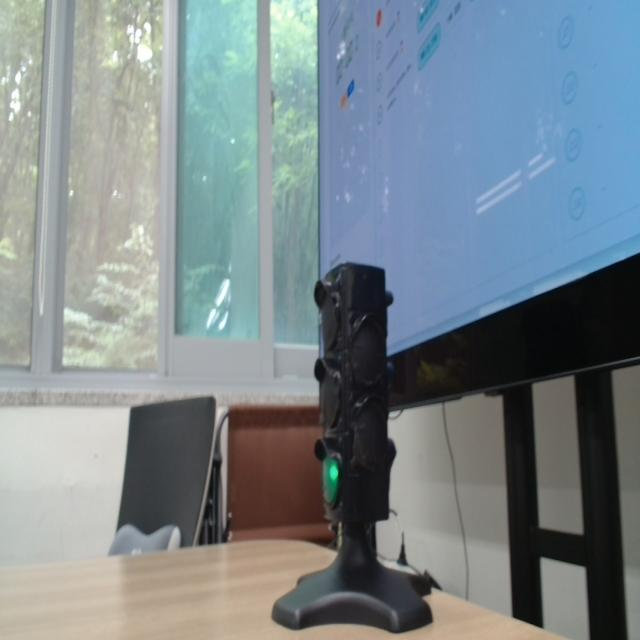green_light: (323, 456, 339, 506), (329, 464, 338, 481)
